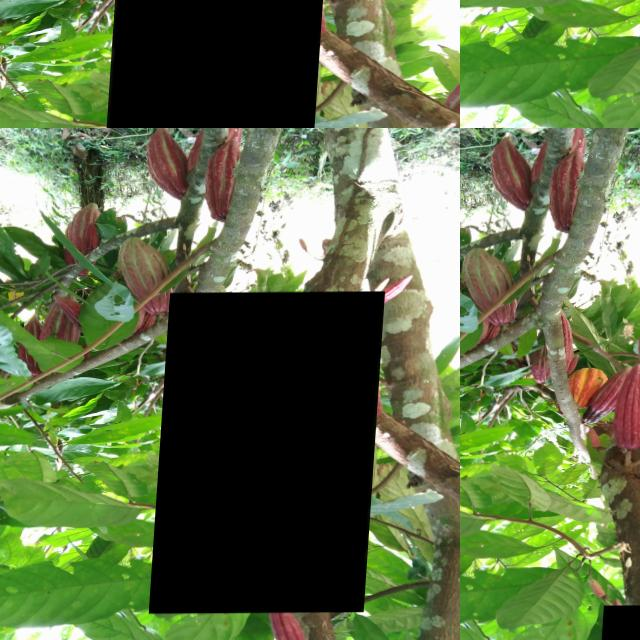Fitoftora: (587, 370, 634, 423)
Sana: (156, 292, 388, 614), (107, 0, 334, 128), (464, 250, 521, 324), (548, 148, 587, 235), (492, 135, 537, 208), (613, 370, 640, 447), (575, 368, 611, 406), (606, 605, 640, 640), (595, 579, 617, 599)
